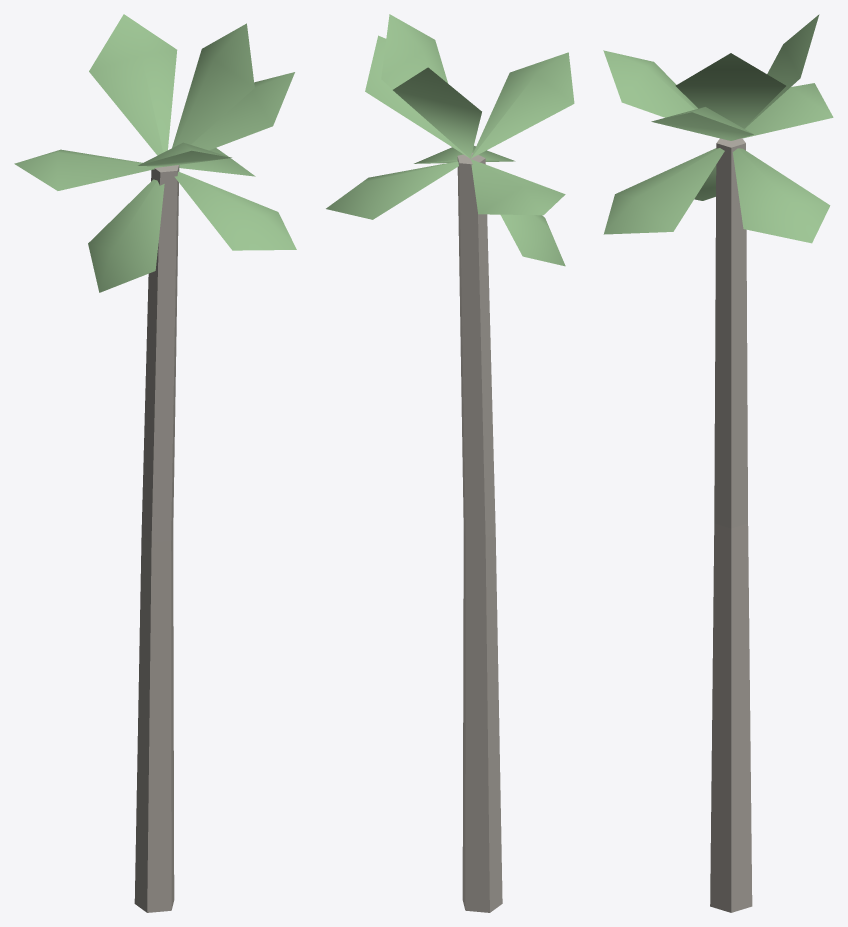
File: tree-palm-b-far.glb
3 renders of one model, left to right at view 1: azimuth 30°, elevation 25°; view 2: azimuth 150°, elevation 25°; view 3: azimuth 270°, elevation 25°, orthographic. The views are drawn at different scales.
Parts seen in each view (by area): view 1: tree-palm-b-far; view 2: tree-palm-b-far; view 3: tree-palm-b-far.
Boxes of the visible parts, bbox=[...] form: tree-palm-b-far: bbox=[14, 14, 296, 912]; tree-palm-b-far: bbox=[326, 14, 574, 912]; tree-palm-b-far: bbox=[603, 14, 833, 912].
Bounding box in the file's own units: 0.2707 × 0.9988 × 0.2325.
